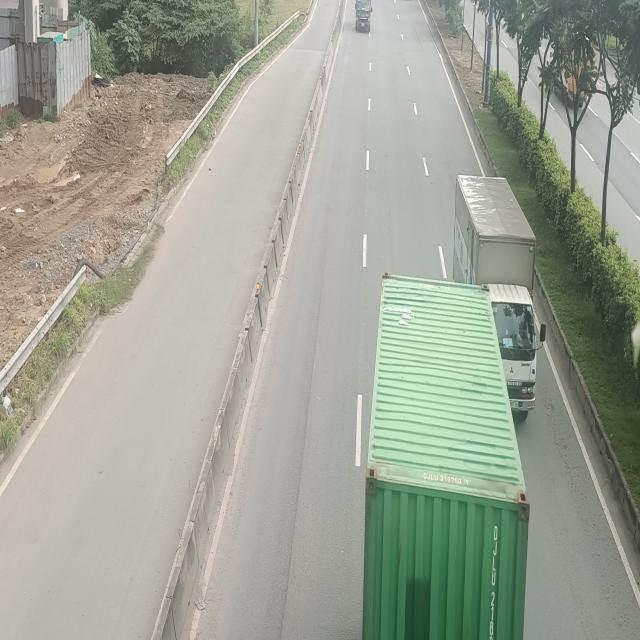container: (364, 279, 532, 636)
truck: (457, 170, 550, 416)
